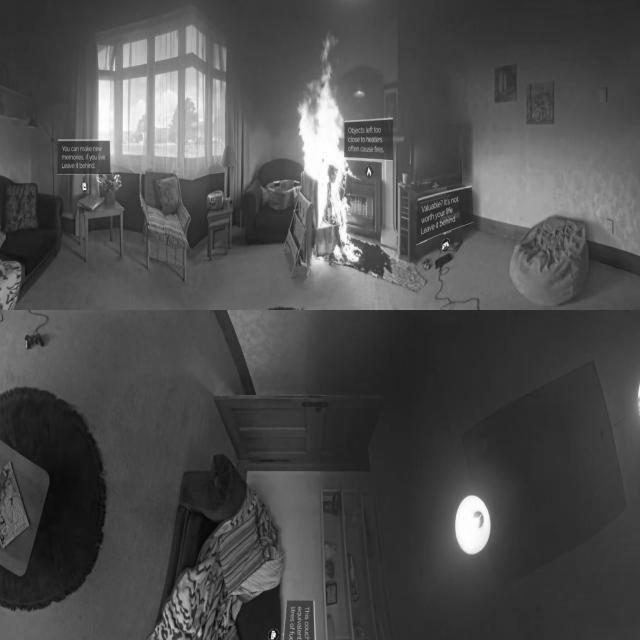smoke: (296, 26, 362, 269)
